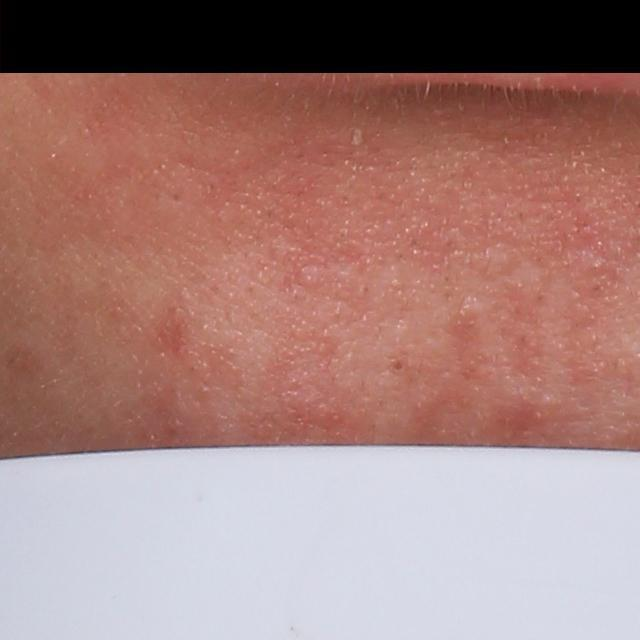comedo: (389, 357, 406, 373)
